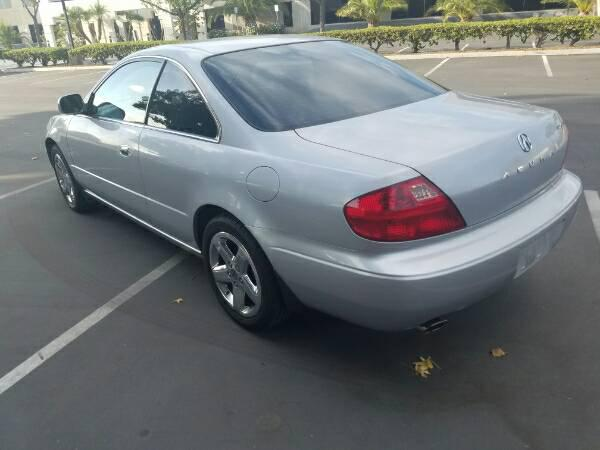acura: (29, 34, 591, 348)
